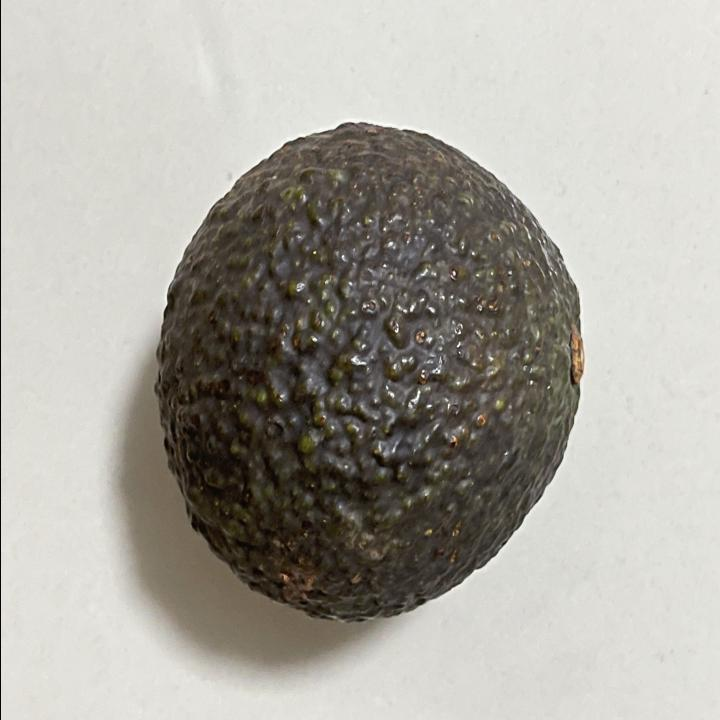Level1: (140, 109, 596, 632)
